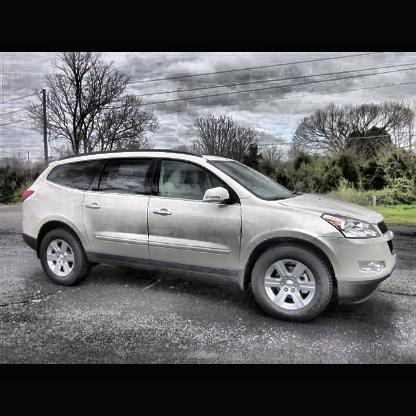Chevrolet Traverse SUV 2012: (19, 145, 399, 327)
